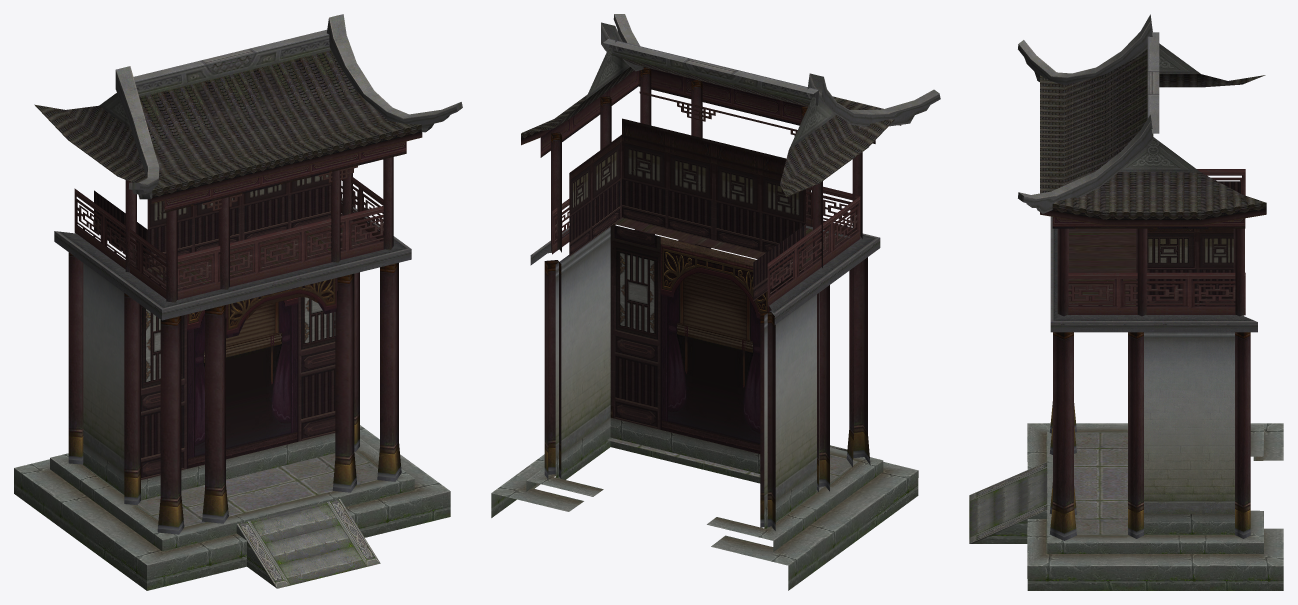
Rendered from zc_suzhou_zhujian08.FBX.
3 views of the same model, side by side, from view 1: azimuth 30°, elevation 25°; view 2: azimuth 150°, elevation 25°; view 3: azimuth 270°, elevation 25° (orthographic). The views are drawn at different scales.
Parts seen in each view (by area): view 1: zc_suzhou_zhujian08; view 2: zc_suzhou_zhujian08; view 3: zc_suzhou_zhujian08.
Part boxes in pixels (x1,y1,x2,y2): zc_suzhou_zhujian08: (14, 14, 462, 590); zc_suzhou_zhujian08: (491, 14, 940, 590); zc_suzhou_zhujian08: (969, 14, 1283, 590).
Size of the model in its own units: 740 by 988 by 626.
2 materials, 2 textured.
